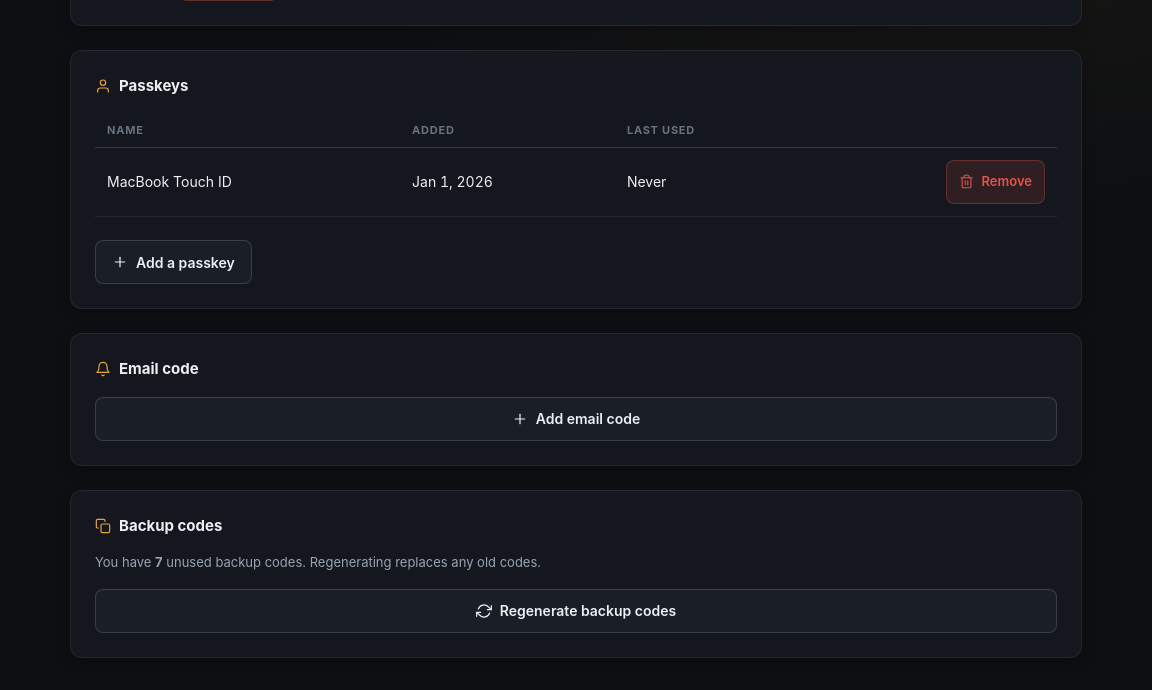
Test case: Security (two-factor settings) › regenerates backup codes and displays them for acknowledgement
The width and height of the screenshot is (1152, 690).
(page scrolled)
Step 1. Click the button "Regenerate backup codes" → (576, 610), box [95,588,1057,632]
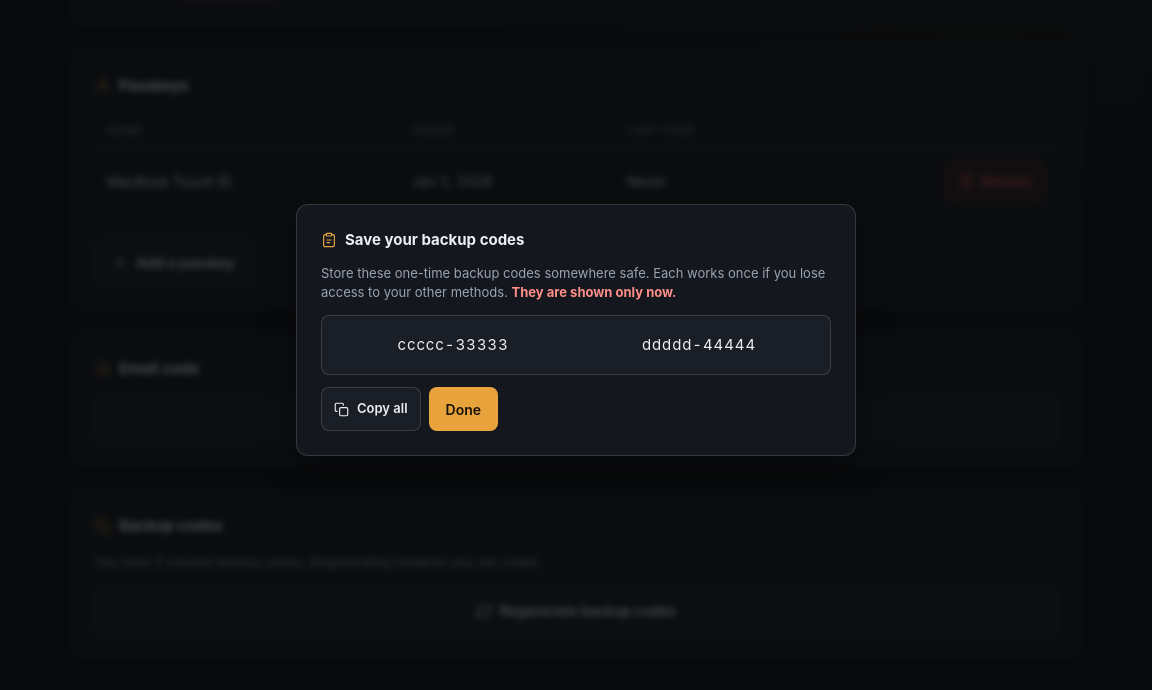
Now the list item "ccccc-33333" is shown, box [397,334,508,354]
Now the list item "ddddd-44444" is shown, box [642,334,756,354]
